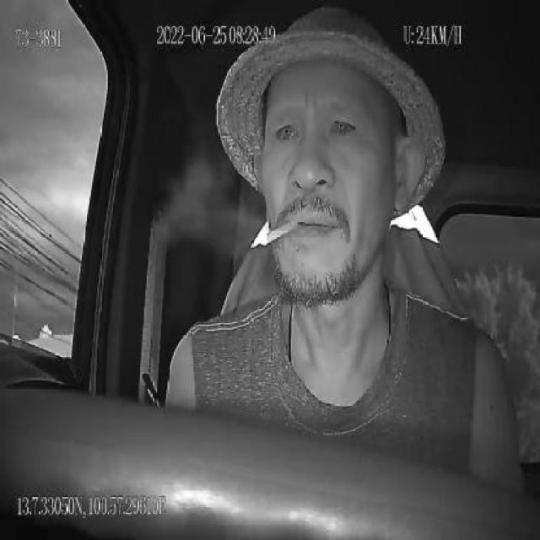smoking: (261, 218, 301, 248)
